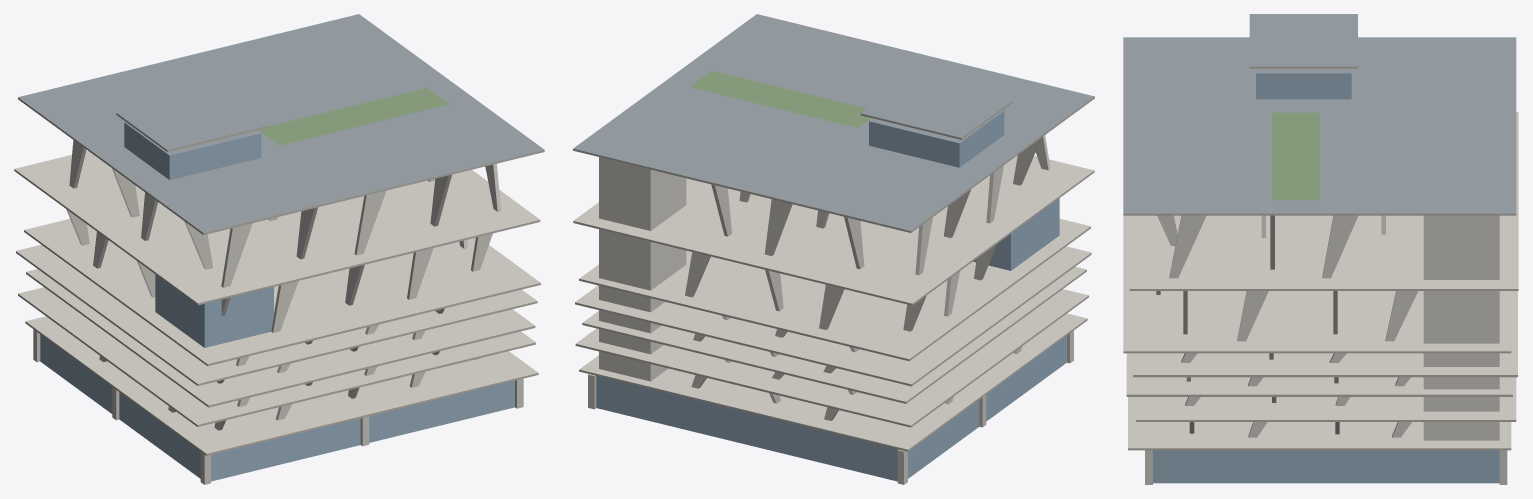
Rendered from mia-1111-lincoln-road.glb.
3 renders of one model, left to right at view 1: azimuth 30°, elevation 25°; view 2: azimuth 150°, elevation 25°; view 3: azimuth 270°, elevation 25°, orthographic. The views are drawn at different scales.
Parts seen in each view (by area): view 1: 1111 Lincoln Road; view 2: 1111 Lincoln Road; view 3: 1111 Lincoln Road.
Part boxes in pixels (<box>): 1111 Lincoln Road: <box>14,14,544,484</box>; 1111 Lincoln Road: <box>573,14,1094,484</box>; 1111 Lincoln Road: <box>1123,14,1518,484</box>.
Size of the model in its own units: 52.6 by 43.2 by 49.5.
